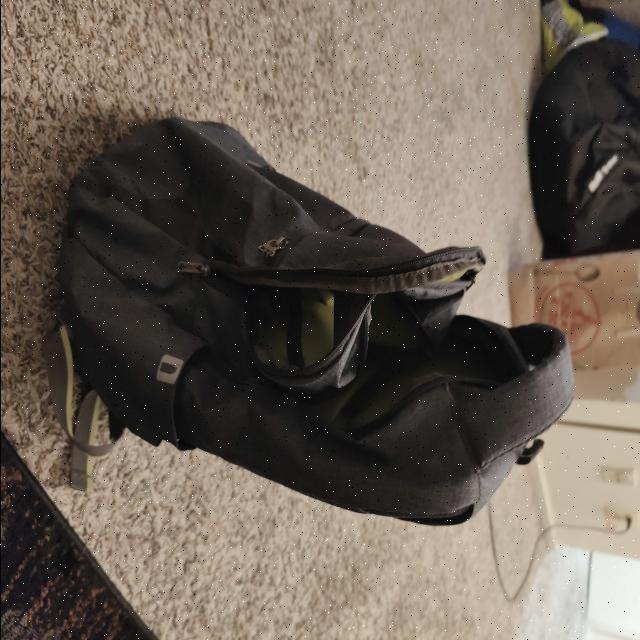bag: (86, 210, 510, 472)
